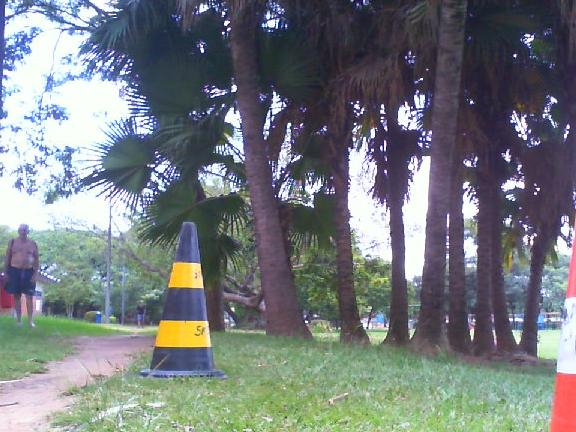0 cone: (481, 36, 576, 432), (125, 221, 229, 381)
